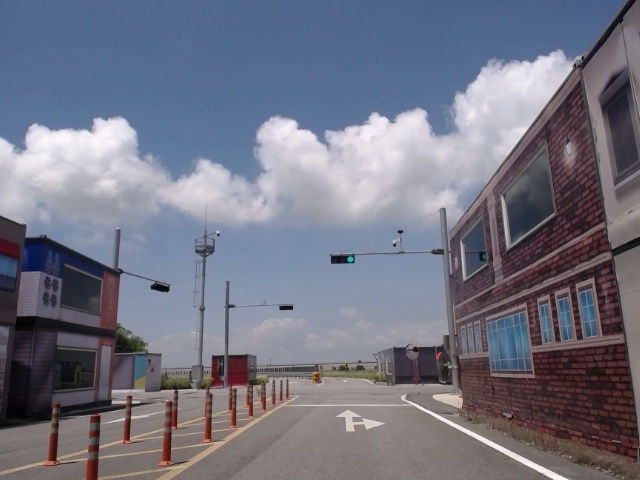green_3: (332, 256, 354, 264)
